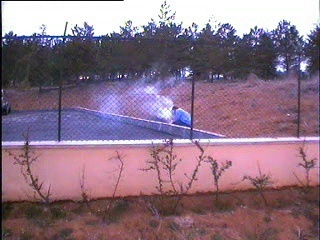smoke: (122, 70, 174, 120)
